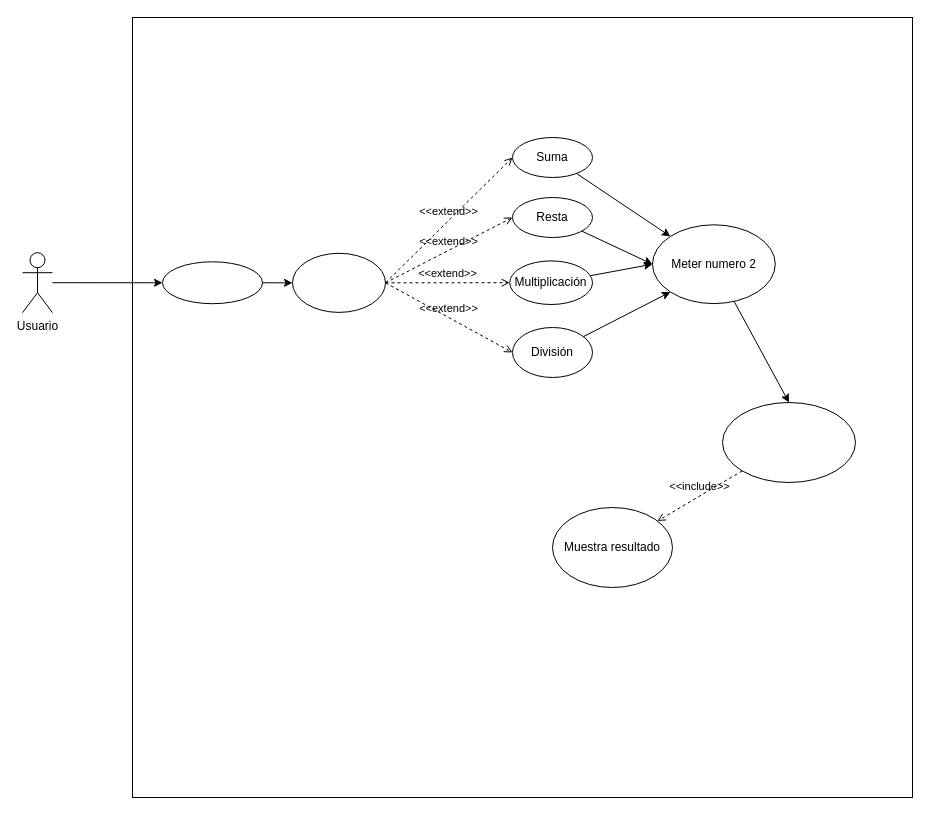
The diagram is 930 pixels wide and 815 high, and some of its shapes have lost their labels. Each missing label, with the centre of its shape:
Meter numero 1: pixel 212 282
Pulsar el igual: pixel 789 442
Seleccionar operacion: pixel 339 282
